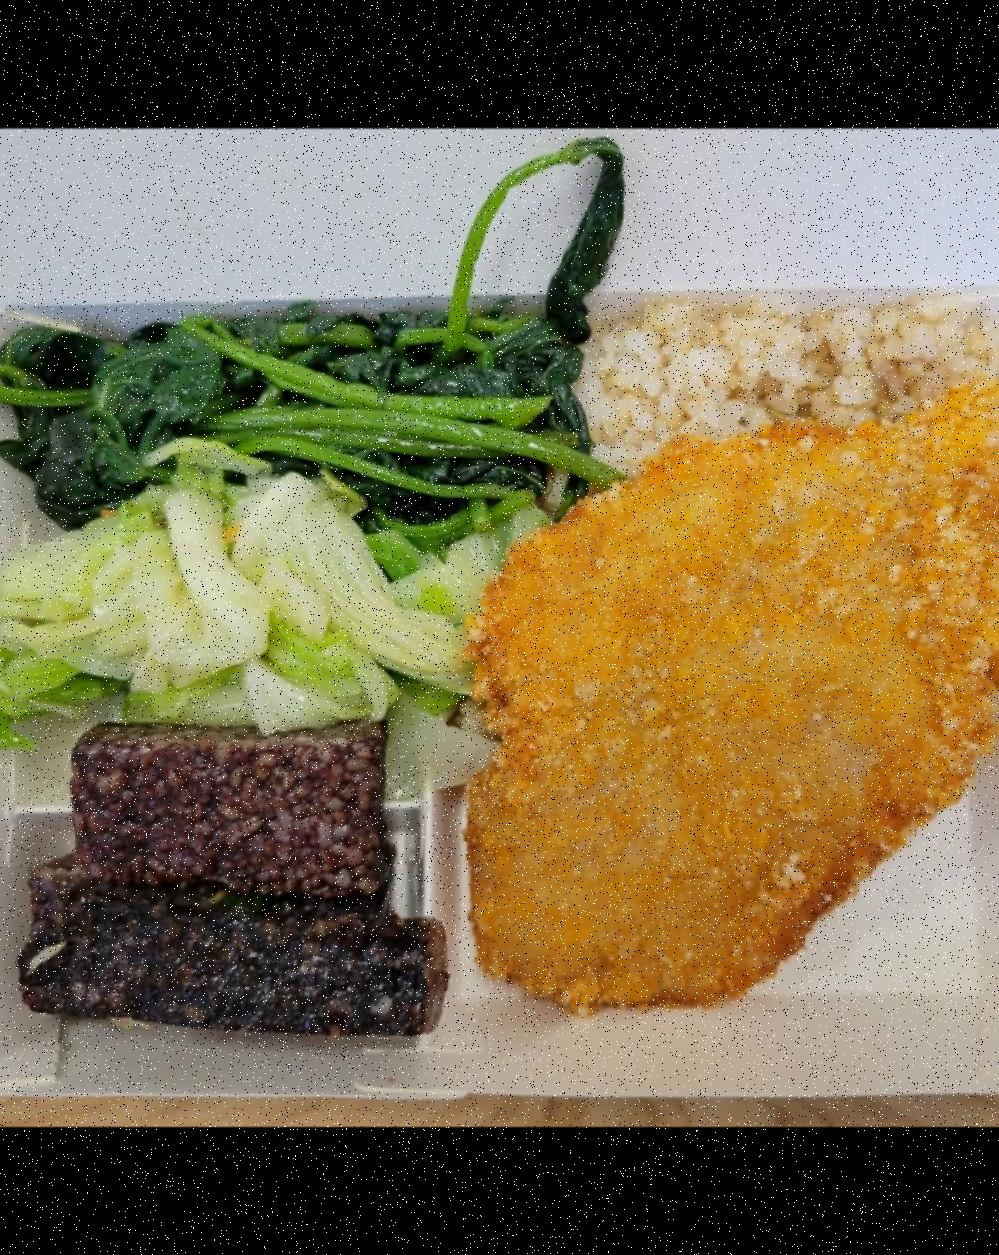box: (0, 252, 999, 1119)
brown rice: (572, 291, 999, 483)
chicken steak: (461, 381, 999, 1013)
side dish: (3, 712, 467, 1056), (0, 279, 616, 508), (0, 475, 496, 725)
